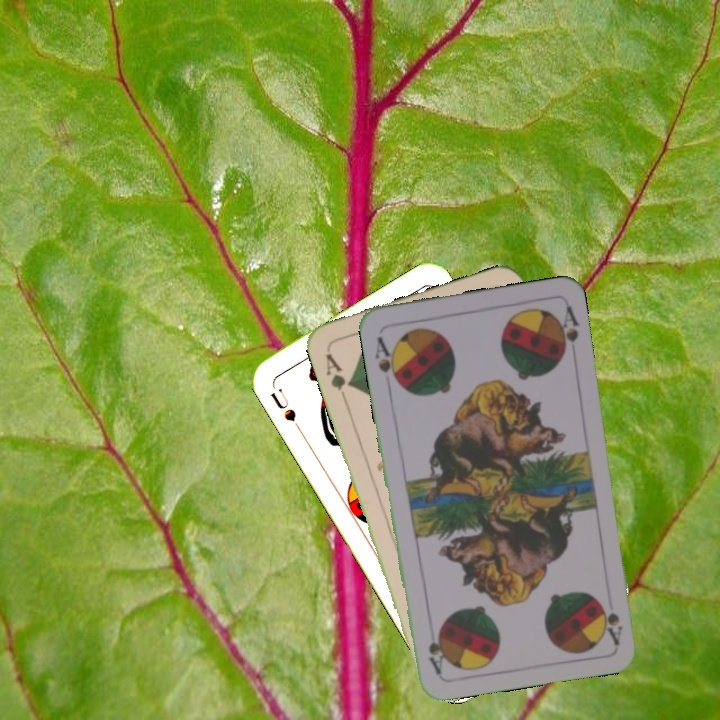GA: (321, 349, 355, 405)
SA: (371, 332, 402, 387), (598, 601, 625, 647)
SU: (267, 381, 305, 434)
